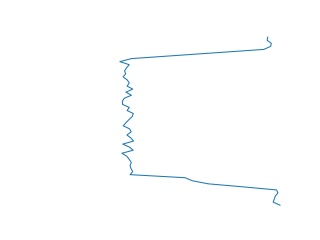distributaryChannelFill: (114, 36, 288, 207)
